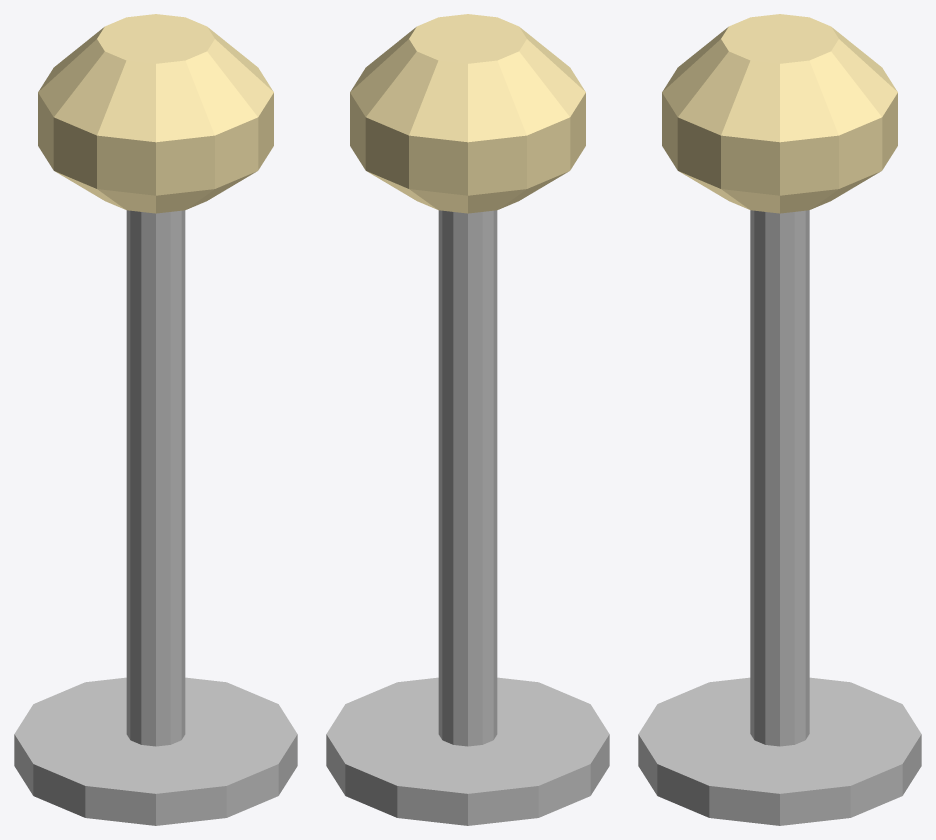
Rendered from lamp.obj.
3 views of the same model, side by side, from view 1: azimuth 30°, elevation 25°; view 2: azimuth 150°, elevation 25°; view 3: azimuth 270°, elevation 25° (orthographic).
Visible parts, largest first — view 1: lamp; view 2: lamp; view 3: lamp.
Part boxes in pixels (bbox=[...]): lamp: bbox=[14, 14, 297, 825]; lamp: bbox=[326, 14, 609, 825]; lamp: bbox=[638, 14, 921, 825].
Size of the model in its own units: 0.48 by 1.36 by 0.48.
